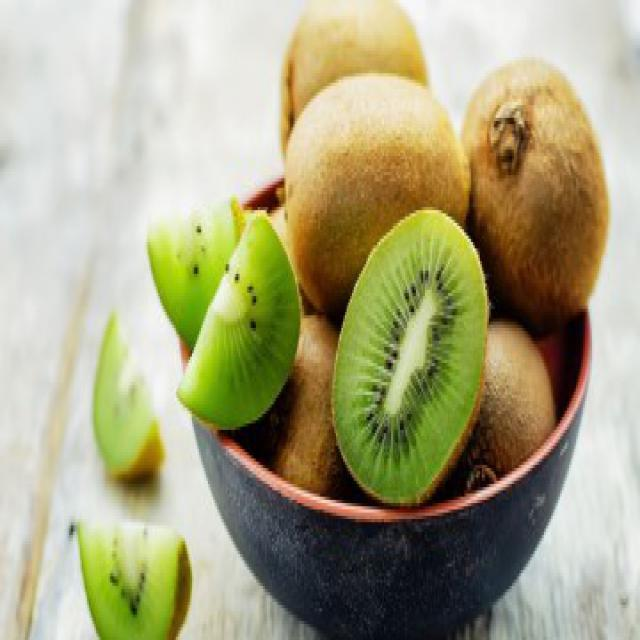kiwi: (287, 74, 474, 323), (463, 58, 611, 323), (280, 1, 430, 186)
